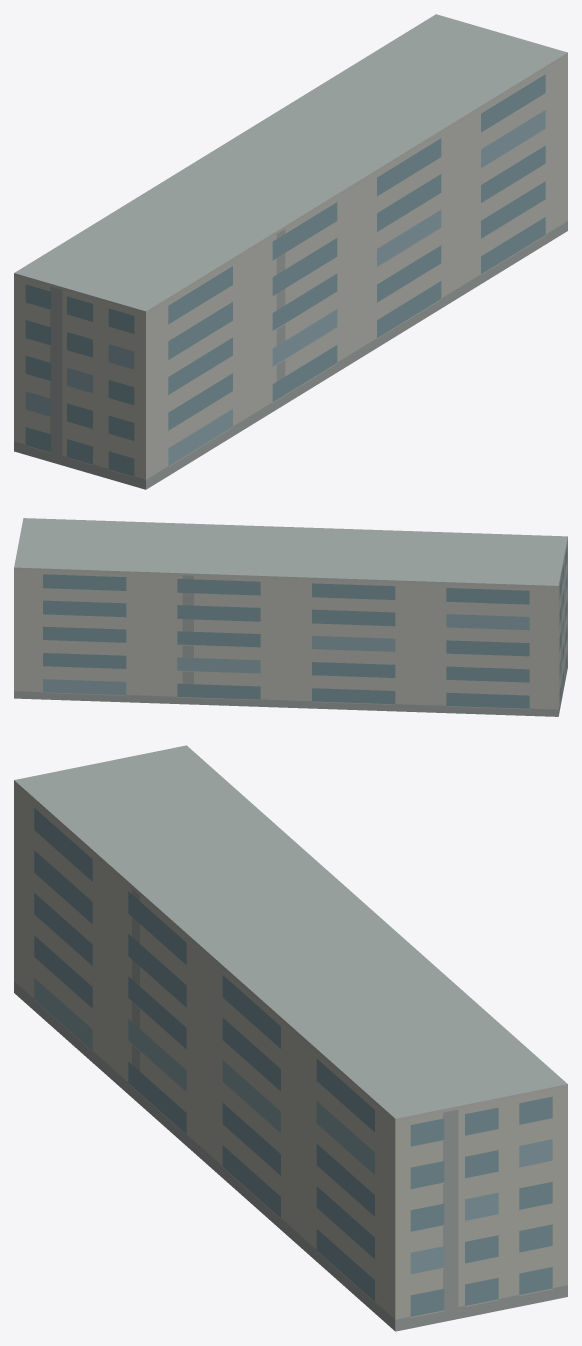
The model's file is residential-4e5635f0-96ab-4cc9-96aa-9bdf2ada2f36.glb.
The picture shows the model from 3 angles, top to bottom: view 1: azimuth 30°, elevation 25°; view 2: azimuth 150°, elevation 25°; view 3: azimuth 270°, elevation 25°; orthographic projection. The views are drawn at different scales.
Visible parts, largest first — view 1: residential-4e5635f0-96ab-4cc9-96aa-9bdf2ada2f36.tmp; view 2: residential-4e5635f0-96ab-4cc9-96aa-9bdf2ada2f36.tmp; view 3: residential-4e5635f0-96ab-4cc9-96aa-9bdf2ada2f36.tmp.
Part boxes in pixels (x1,y1,x2,y2): residential-4e5635f0-96ab-4cc9-96aa-9bdf2ada2f36.tmp: [14, 14, 567, 489]; residential-4e5635f0-96ab-4cc9-96aa-9bdf2ada2f36.tmp: [14, 518, 567, 716]; residential-4e5635f0-96ab-4cc9-96aa-9bdf2ada2f36.tmp: [14, 745, 567, 1331].
Bounding box in the file's own units: 57.39 × 15.25 × 35.98.
